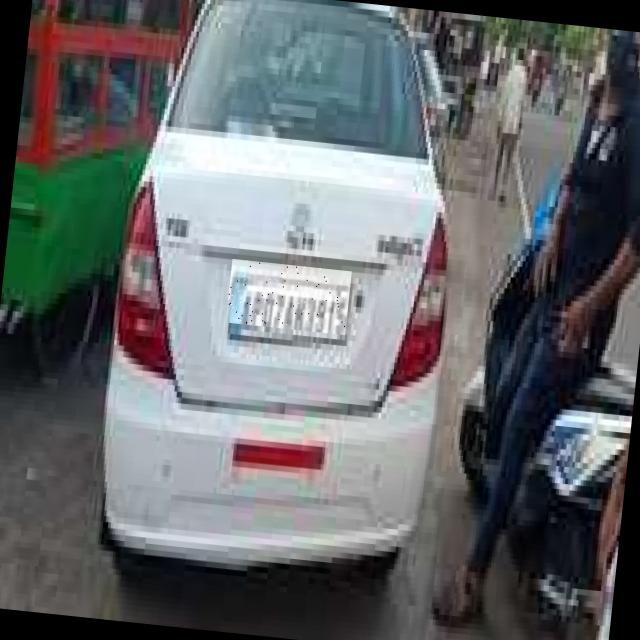Plate: (227, 260, 353, 336)
